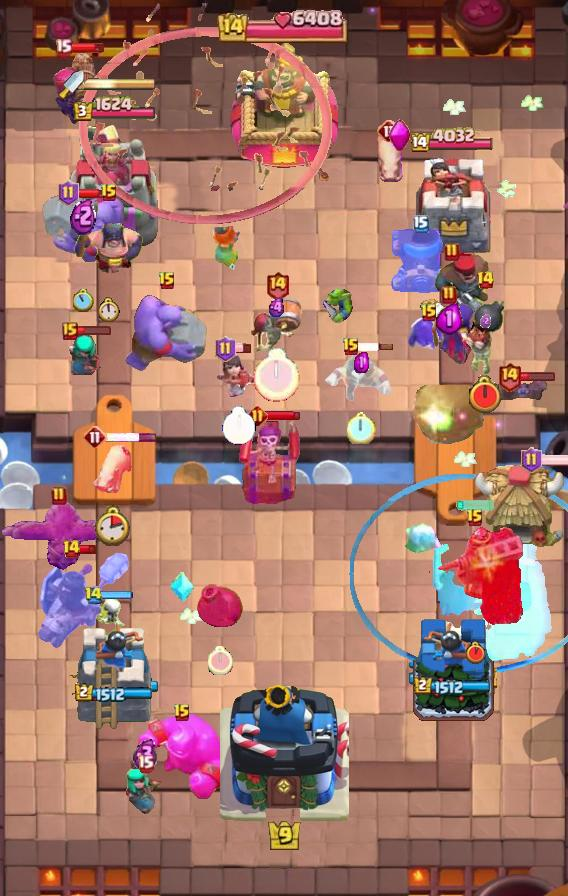bar: (105, 432, 158, 443), (76, 187, 112, 200), (265, 410, 301, 422), (69, 42, 105, 54), (519, 371, 556, 382), (76, 325, 112, 336), (358, 342, 394, 352), (539, 454, 568, 466), (100, 590, 134, 600), (78, 544, 97, 555), (233, 343, 252, 354)
bar-level: (497, 361, 522, 392), (265, 270, 290, 301), (83, 425, 107, 449), (377, 119, 401, 143), (521, 447, 542, 473), (215, 336, 236, 362), (58, 180, 79, 206), (247, 405, 268, 426), (62, 539, 81, 559), (476, 270, 495, 290), (84, 586, 103, 605), (173, 703, 191, 723), (466, 508, 484, 528), (342, 337, 360, 357), (420, 303, 438, 323), (158, 271, 176, 291), (100, 183, 118, 203), (137, 754, 154, 773), (55, 38, 72, 57), (51, 486, 67, 506), (441, 285, 457, 305), (444, 242, 460, 262), (62, 322, 78, 340), (413, 215, 429, 233)
bat: (493, 378, 551, 400)
bomb: (194, 579, 246, 633)
bomber: (461, 294, 509, 376)
clock: (254, 348, 300, 402), (94, 505, 130, 546), (467, 375, 503, 415), (222, 406, 256, 445), (347, 411, 376, 444), (208, 646, 233, 675), (99, 297, 120, 322), (73, 289, 94, 312), (466, 641, 485, 664)
dagger-duchess-tower: (67, 122, 161, 256)
dagger-duchess-tower-bar: (84, 77, 156, 91)
electro-spirit: (408, 313, 450, 353)
electro-wizard: (324, 348, 398, 406)
elixir: (70, 197, 96, 235), (436, 302, 463, 335), (133, 738, 158, 771), (267, 297, 287, 318), (354, 352, 369, 373), (480, 314, 491, 328)
evolution-symbol: (387, 119, 411, 153)
executioner: (74, 201, 144, 277)
firecracker-evolution: (52, 51, 100, 127)
goblin: (318, 286, 358, 324)
hog: (90, 441, 134, 497), (373, 132, 405, 184)
hunter: (432, 251, 492, 323)
ice-spirit: (404, 522, 442, 556)
ice-spirit-evolution-symbol: (169, 571, 195, 603)
king-tower: (220, 678, 349, 826), (230, 43, 338, 181)
king-tower-bar: (217, 9, 351, 43)
mortar: (391, 229, 451, 293)
princess: (214, 348, 264, 400)
queen-tower: (409, 616, 497, 731), (70, 616, 158, 731), (413, 157, 493, 256)
rascal-girl: (124, 765, 166, 819), (65, 335, 103, 377)
skeleton: (91, 596, 125, 630)
tower-bar: (411, 127, 496, 155), (72, 96, 157, 123), (75, 683, 154, 703), (414, 676, 492, 696)
valkyrie: (208, 221, 246, 273)
wall-breaker: (249, 296, 305, 354)
witch: (419, 296, 479, 364)
